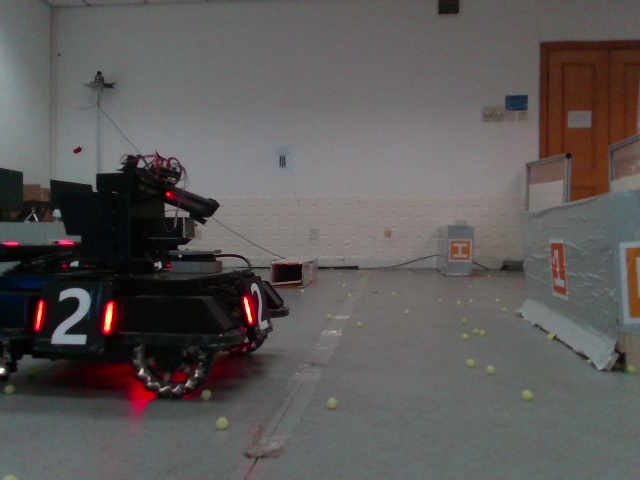Robot_Red: (1, 149, 287, 397)
armor_Red: (33, 288, 114, 346)
